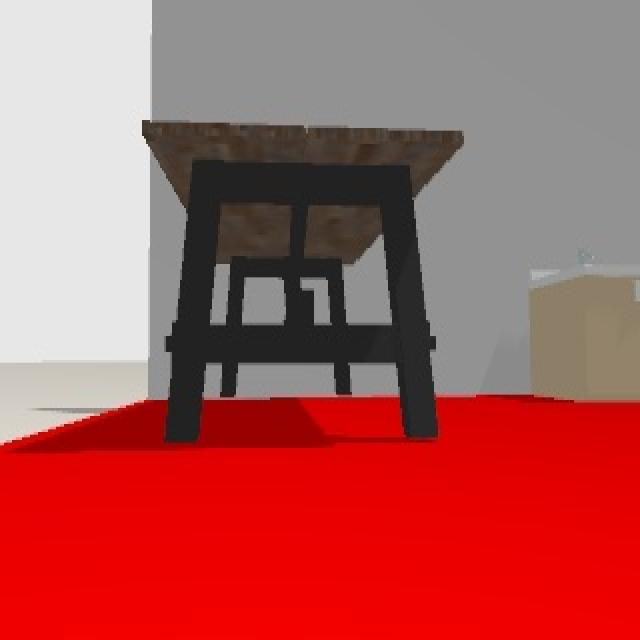dining: (138, 113, 460, 444)
